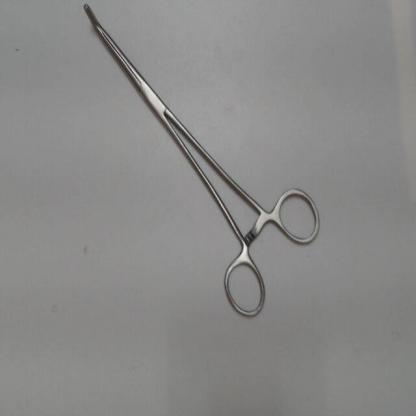Lahey Forceps: (77, 1, 324, 322)
